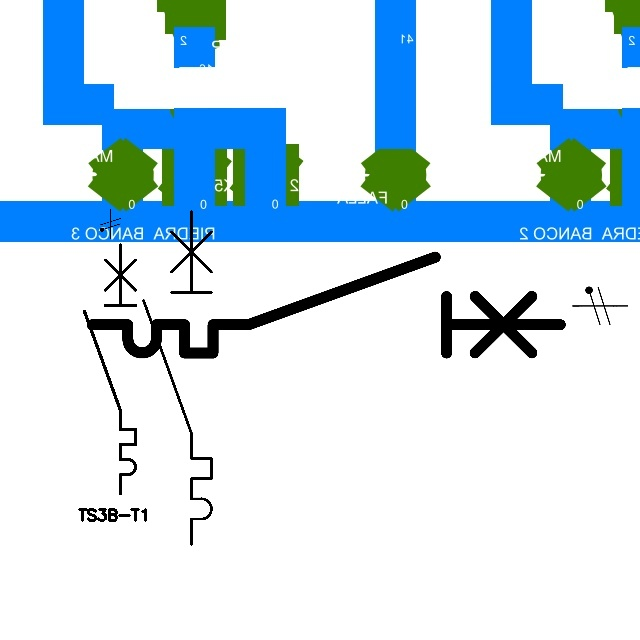interruptor_termomagnetico: (80, 245, 572, 365), (135, 203, 220, 553), (78, 238, 142, 499)
